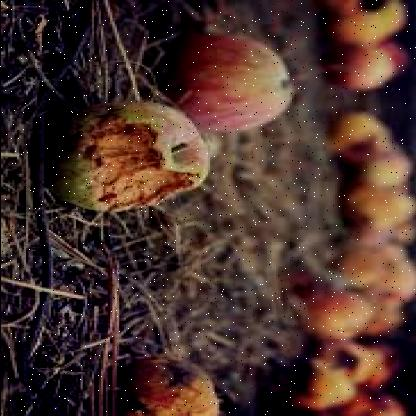apple: (182, 33, 291, 127)
damaged_apple: (48, 100, 202, 215), (121, 350, 228, 414), (307, 286, 373, 340)
